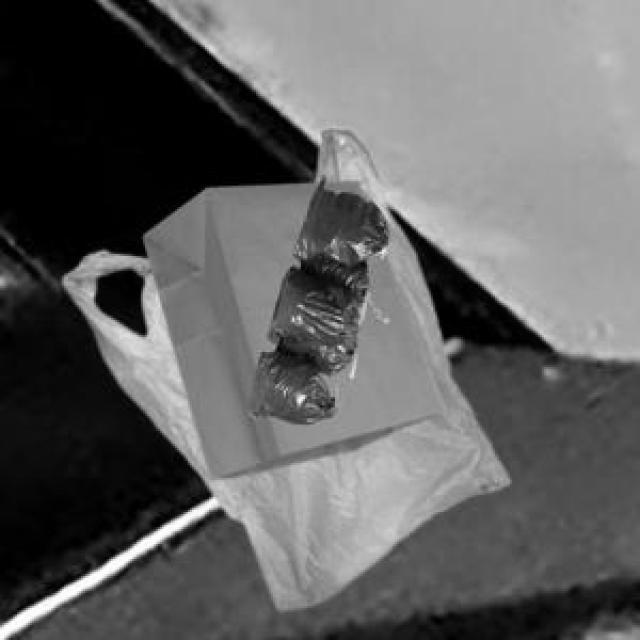miscellaneous trash: (245, 173, 384, 420)
paper: (139, 177, 442, 476)
